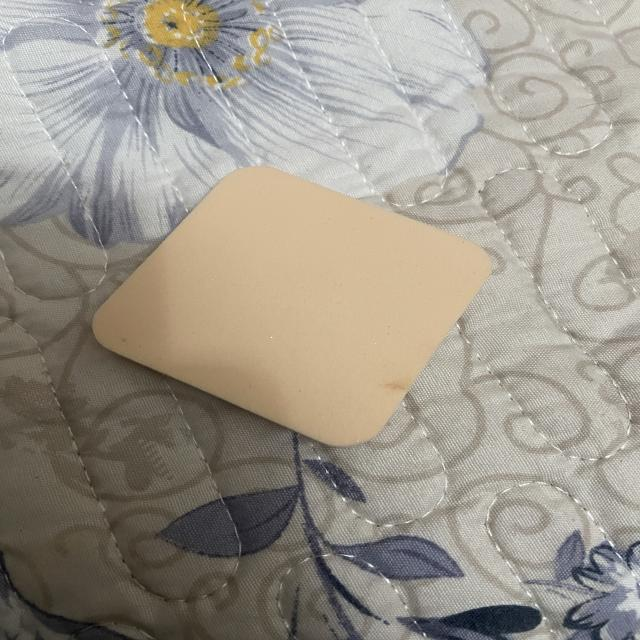beauty blender: (79, 156, 511, 458)
